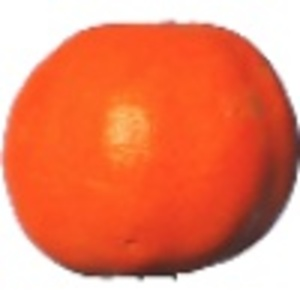tangerina: (1, 18, 300, 281)
